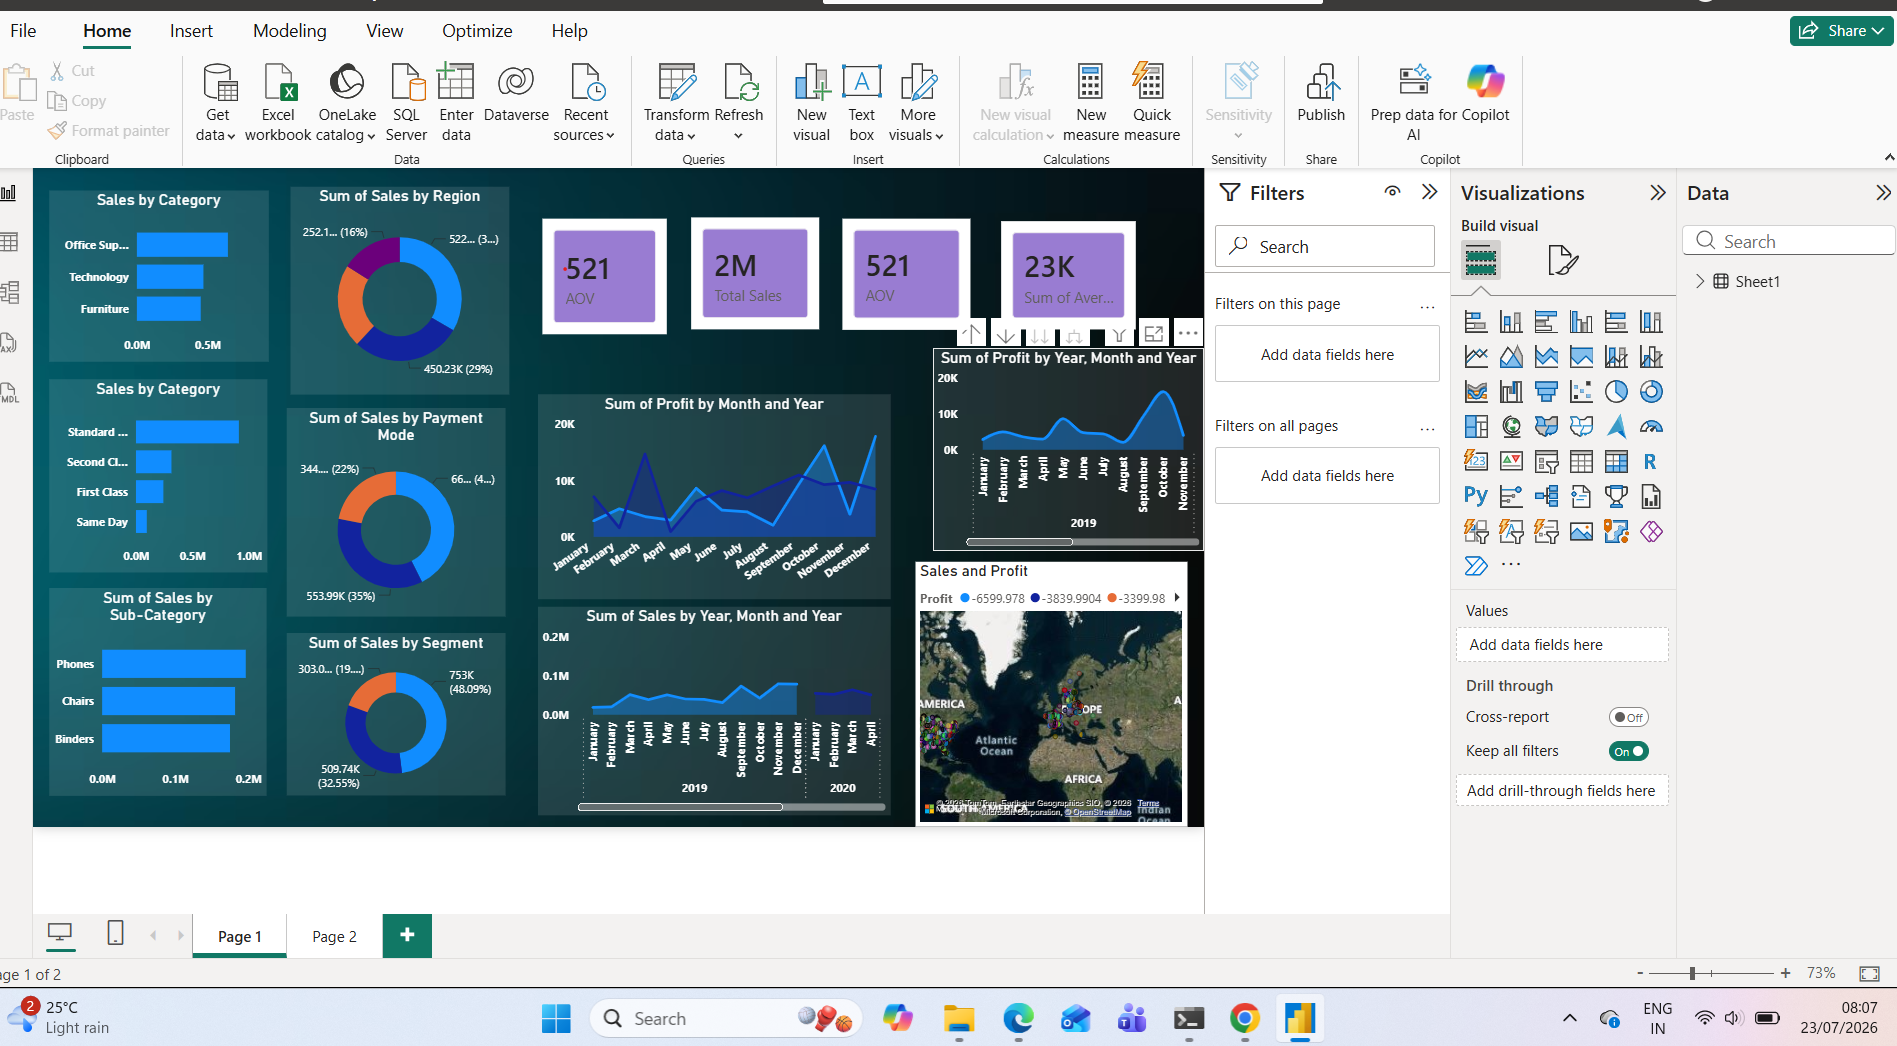

Layout of this report page (visuals, bound fields, positions):
{"tool":"powerbi","page":{"name":"Page 1","canvas":[1280,720],"ordinal":0},"visuals":[{"type":"barChart","title":" Sales by Category","fields":{"Category":["Sheet1.Category"],"Y":["Sum(Sheet1.Sales)"]},"box":[17.5,24.2,239.6,187.1],"z":0},{"type":"barChart","title":" Sales by Category","fields":{"Y":["Sum(Sheet1.Sales)"],"Category":["Sheet1.Ship Mode"]},"box":[17.5,231.6,238.3,211.4],"z":1000},{"type":"donutChart","fields":{"Y":["Sum(Sheet1.Sales)"],"Category":["Sheet1.Region"]},"box":[281.5,20.5,239.1,226.8],"z":2000},{"type":"barChart","fields":{"Category":["Sheet1.Sub-Category"],"Y":["Sum(Sheet1.Sales)"]},"box":[17.8,459.1,237.7,226.8],"z":3000},{"type":"areaChart","fields":{"Category":["Sheet1.Order Date.Variation.Date Hierarchy.Month"],"Series":["Sheet1.Order Date.Variation.Date Hierarchy.Year"],"Y":["Sum(Sheet1.Profit)"]},"box":[552,247.3,385.3,224.1],"z":4000},{"type":"donutChart","fields":{"Category":["Sheet1.Payment Mode"],"Y":["Sum(Sheet1.Sales)"]},"box":[277.4,262.3,239.1,228.2],"z":5000},{"type":"donutChart","fields":{"Y":["Sum(Sheet1.Sales)"],"Category":["Sheet1.Segment"]},"box":[277.4,508.3,239.1,177.6],"z":6000},{"type":"map","fields":{"Category":["Sheet1.Sales"],"Series":["Sheet1.Profit"]},"box":[964.6,430.4,296.5,289.7],"z":7000},{"type":"areaChart","fields":{"Y":["Sum(Sheet1.Profit)"],"Category":["Sheet1.Order Date.Variation.Date Hierarchy.Year","Sheet1.Order Date.Variation.Date Hierarchy.Month"],"Series":["Sheet1.Order Date.Variation.Date Hierarchy.Year"]},"box":[983.8,196.8,296.5,221.4],"z":8000},{"type":"cardVisual","fields":{"Data":["Sheet1.AOV"]},"box":[552,50.6,146.2,136.6],"z":9000},{"type":"cardVisual","fields":{"Data":["Sheet1.Total Sales"]},"box":[714.6,49.2,150.3,132.5],"z":10000},{"type":"cardVisual","fields":{"Data":["Sheet1.AOV"]},"box":[879.9,50.6,150.3,131.2],"z":11000},{"type":"cardVisual","fields":{"Data":["Sum(Sheet1.Averagedelivery)"]},"box":[1053.5,53.3,157.1,128.4],"z":12000},{"type":"areaChart","fields":{"Y":["Sum(Sheet1.Sales)"],"Category":["Sheet1.Order Date.Variation.Date Hierarchy.Year","Sheet1.Order Date.Variation.Date Hierarchy.Month"],"Series":["Sheet1.Order Date.Variation.Date Hierarchy.Year"]},"box":[552,479.6,385.3,228.2],"z":13000}]}

Visuals, with their boxes on the page's 1280x720 design canvas (x1, y1, x2, y2). These are canvas units, not pixel positions in the 1897x1046 screenshot, which may show the page scaled, cropped or inside an application window:
" Sales by Category" barChart: bbox=[18, 24, 257, 211]
" Sales by Category" barChart: bbox=[18, 232, 256, 443]
donutChart - Sum(Sheet1.Sales) x Sheet1.Region: bbox=[282, 20, 521, 247]
barChart - Sheet1.Sub-Category x Sum(Sheet1.Sales): bbox=[18, 459, 256, 686]
areaChart - Sheet1.Order Date.Variation.Date Hierarchy.Month x Sheet1.Order Date.Variation.Date Hierarchy.Year: bbox=[552, 247, 937, 471]
donutChart - Sheet1.Payment Mode x Sum(Sheet1.Sales): bbox=[277, 262, 516, 490]
donutChart - Sum(Sheet1.Sales) x Sheet1.Segment: bbox=[277, 508, 516, 686]
map - Sheet1.Sales x Sheet1.Profit: bbox=[965, 430, 1261, 720]
areaChart - Sum(Sheet1.Profit) x Sheet1.Order Date.Variation.Date Hierarchy.Year: bbox=[984, 197, 1280, 418]
cardVisual - Sheet1.AOV: bbox=[552, 51, 698, 187]
cardVisual - Sheet1.Total Sales: bbox=[715, 49, 865, 182]
cardVisual - Sheet1.AOV: bbox=[880, 51, 1030, 182]
cardVisual - Sum(Sheet1.Averagedelivery): bbox=[1054, 53, 1211, 182]
areaChart - Sum(Sheet1.Sales) x Sheet1.Order Date.Variation.Date Hierarchy.Year: bbox=[552, 480, 937, 708]
